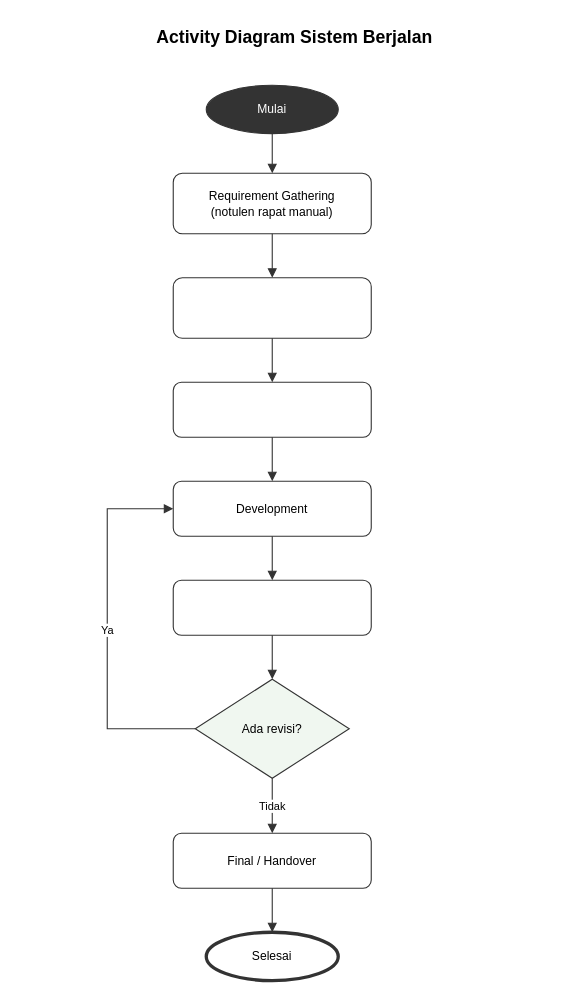
Some shapes in this 587 by 1001 pixel diagram are drawn without their labels. Each missing label, with the centre of its shape:
"Design" belongs at [271,409].
"Planning & WBS (penyusunan manual)" belongs at [271,307].
"QA / Testing" belongs at [271,607].
